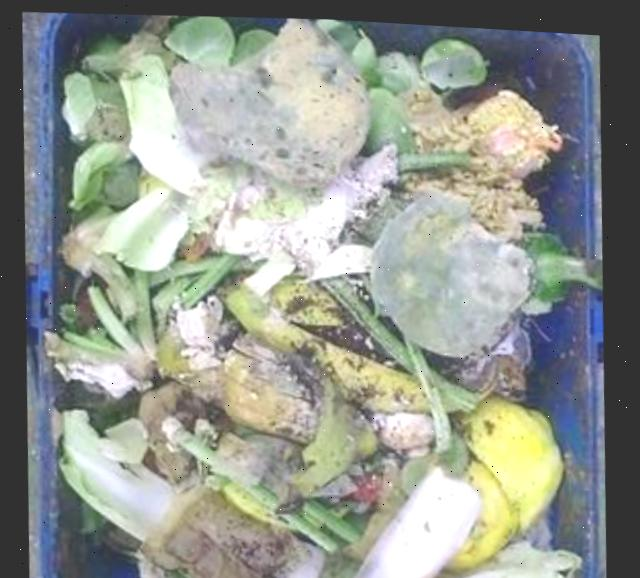Plastic_Bag: (45, 13, 598, 578), (170, 14, 369, 182), (372, 185, 531, 351)
